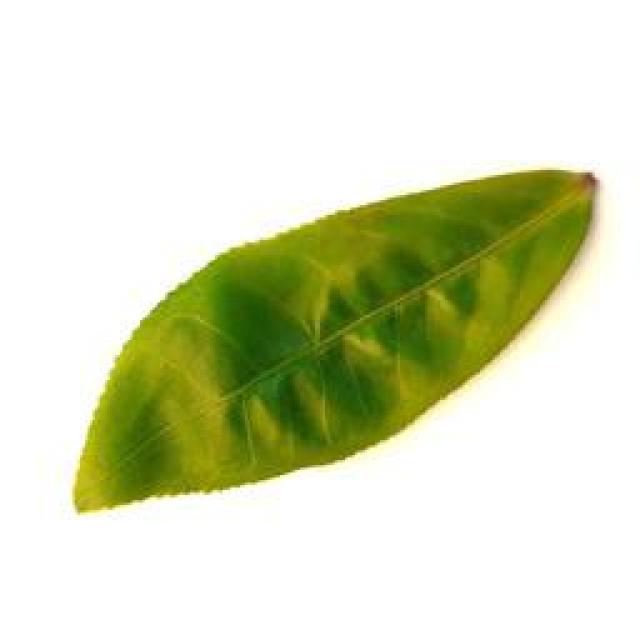Healthy: (70, 157, 594, 516)
